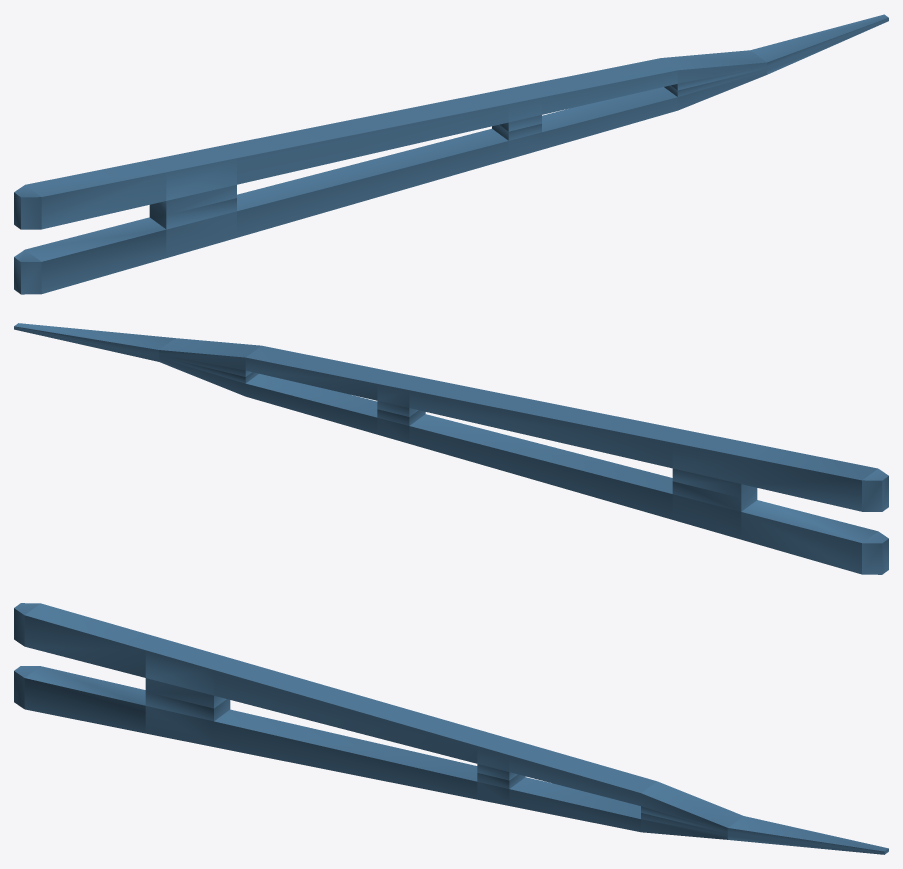
The model's file is craneboom.glb.
3 renders of one model, top to bottom at view 1: azimuth 30°, elevation 25°; view 2: azimuth 150°, elevation 25°; view 3: azimuth 330°, elevation 25°, orthographic. The views are drawn at different scales.
Parts seen in each view (by area): view 1: craneboom; view 2: craneboom; view 3: craneboom.
Part boxes in pixels (x1,y1,x2,y2): craneboom: (14, 14, 888, 294); craneboom: (14, 323, 888, 574); craneboom: (14, 603, 888, 854).
Bounding box in the file's own units: 91.3 × 9.6 × 4.39.
